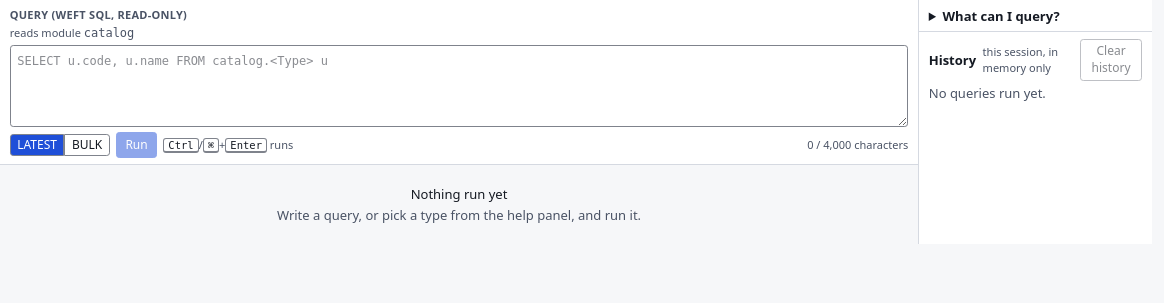
Test: Query: a grid (US-077) › US-077-AC1: runs the text as a POST body and shows one column per selected column, the rows, count, freshness and revision
The image size is (1164, 303).
Type "SELECT u.code, u.name FROM catalog.UseCase u ORDER BY u.code LIMIT 50" into the text box with test id "query-input". click: [459, 86]
box: [10, 45, 908, 127]
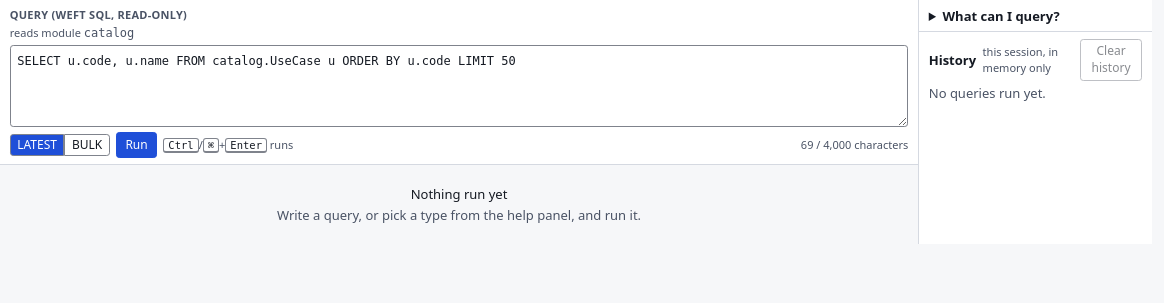
Click the button "Run". click: [137, 145]
box: [116, 132, 157, 158]
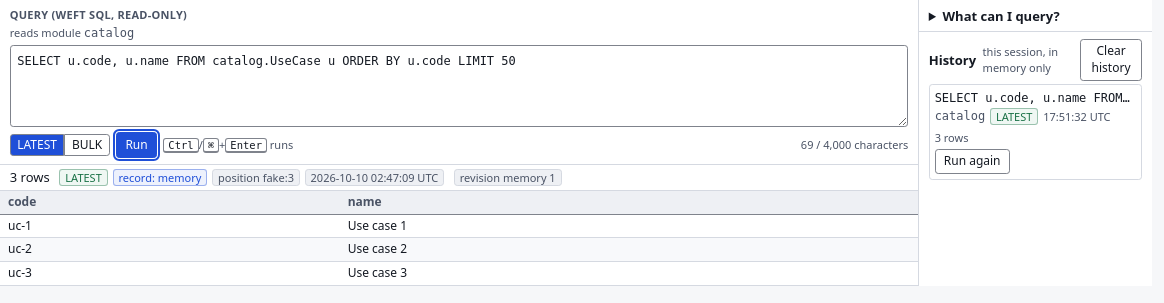
Result: the button "uc-1" is shown at [8, 218, 32, 234]
Result: the column headings read "code", "name", in this order at [0, 191, 340, 214]; [340, 191, 918, 214]
Result: the number of rows with test id "query-row" is 3 at [0, 214, 918, 238]; [0, 238, 918, 262]; [0, 262, 918, 286]
